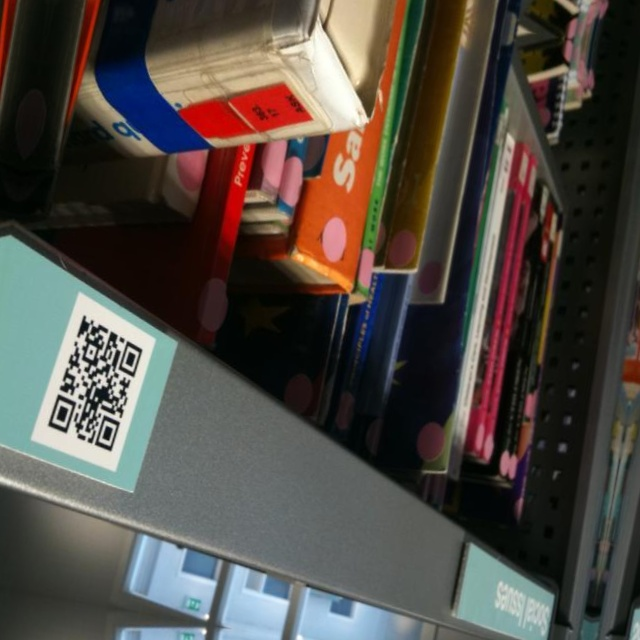qr-code: (46, 313, 147, 454)
